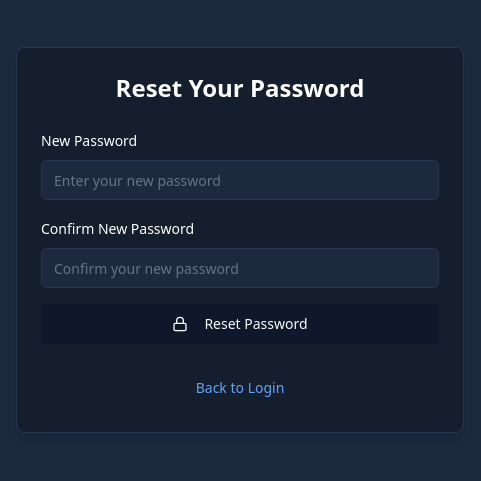
Scenario: actual password recovery page ownership › shows a real password rejection without claiming success or ending the session
Step 1. Type "new-fixture-password" into the password field with placeholder "Enter your new password" → (240, 180), box top-left (41, 160), bottom-right (439, 200)
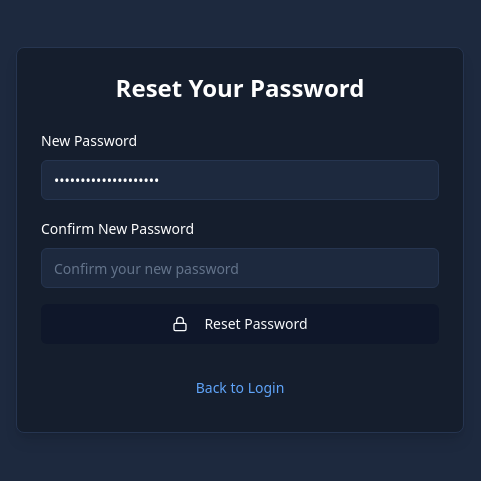
Step 2. Type "new-fixture-password" into the password field with placeholder "Confirm your new password" → (240, 268), box top-left (41, 248), bottom-right (439, 288)
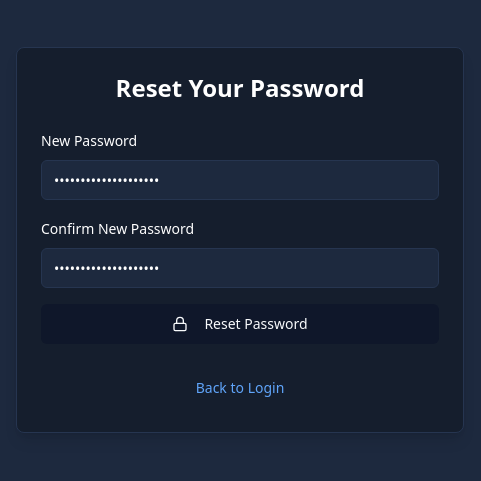
Step 3. Click the button "Reset Password" → (240, 324), box top-left (41, 304), bottom-right (439, 344)
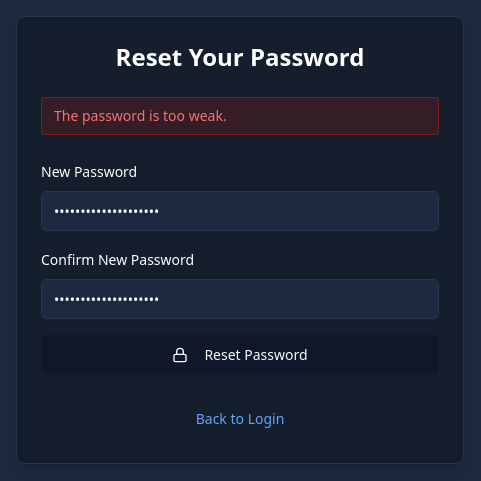
Now the text "The password is too weak." is shown, box top-left (41, 97), bottom-right (439, 135)
